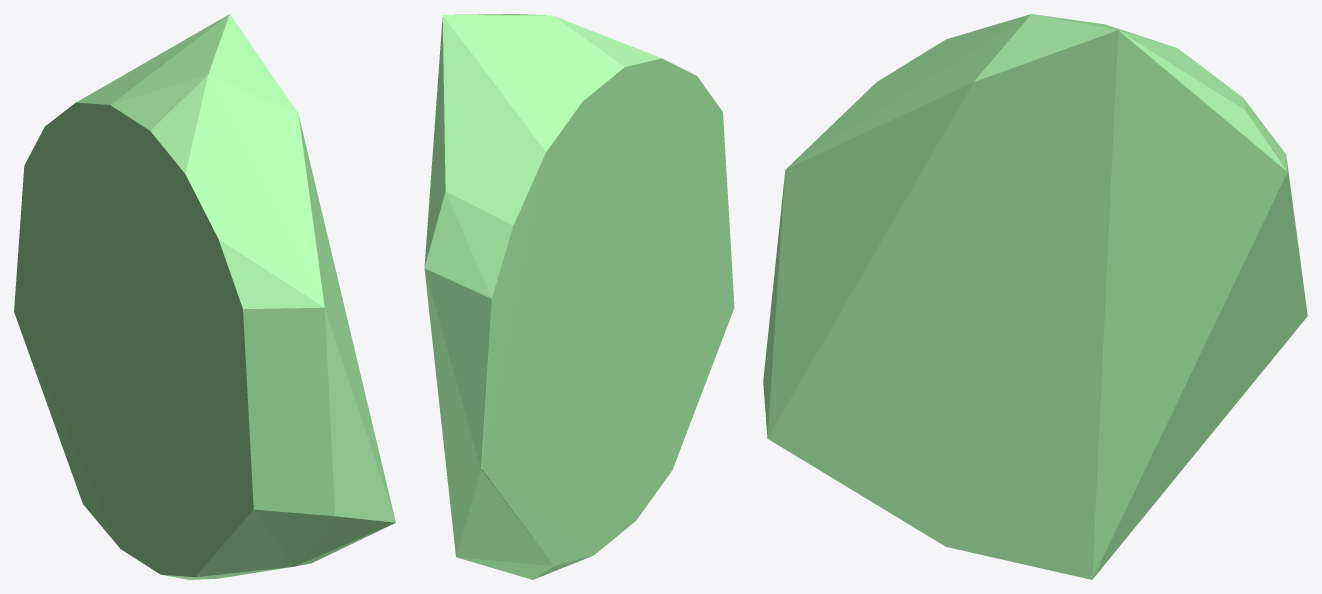
File: linkhou_LR4_R560_link7_respondable_coll_2.dae
3 views of the same model, side by side, from view 1: azimuth 30°, elevation 25°; view 2: azimuth 150°, elevation 25°; view 3: azimuth 270°, elevation 25° (orthographic). The views are drawn at different scales.
Visible parts, largest first — view 1: Node_00000209DB3ACC00; view 2: Node_00000209DB3ACC00; view 3: Node_00000209DB3ACC00.
Boxes of the visible parts, box(x1,y1,x2,y2) form: Node_00000209DB3ACC00: box(14, 14, 395, 579); Node_00000209DB3ACC00: box(424, 14, 734, 579); Node_00000209DB3ACC00: box(763, 14, 1307, 579).
Size of the model in its own units: 0.00603 by 0.0244 by 0.0213.
